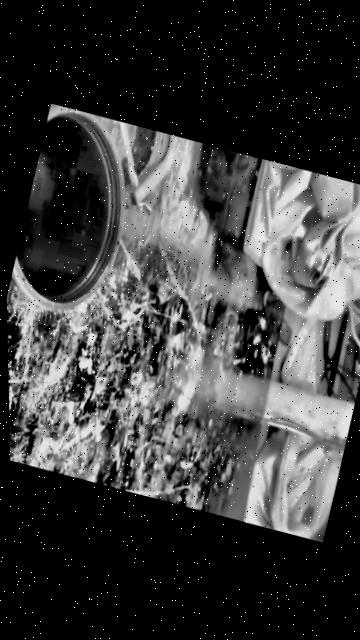pot: (3, 102, 147, 319)
